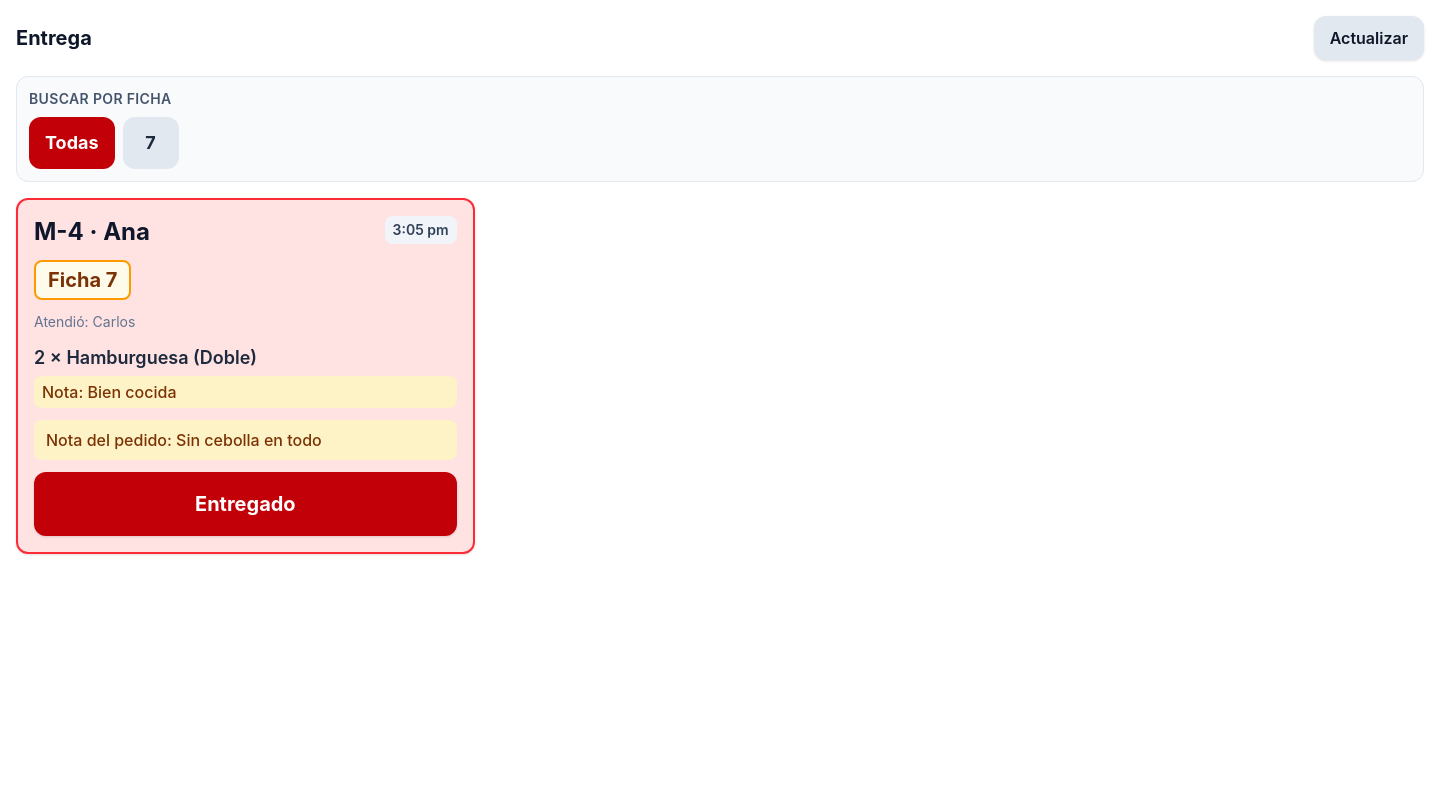
Test: DeliveryBoard › removes the card optimistically when delivered
Click the button with aria-label "Marcar pedido entregado" at (245, 504), box [34,472,457,536]
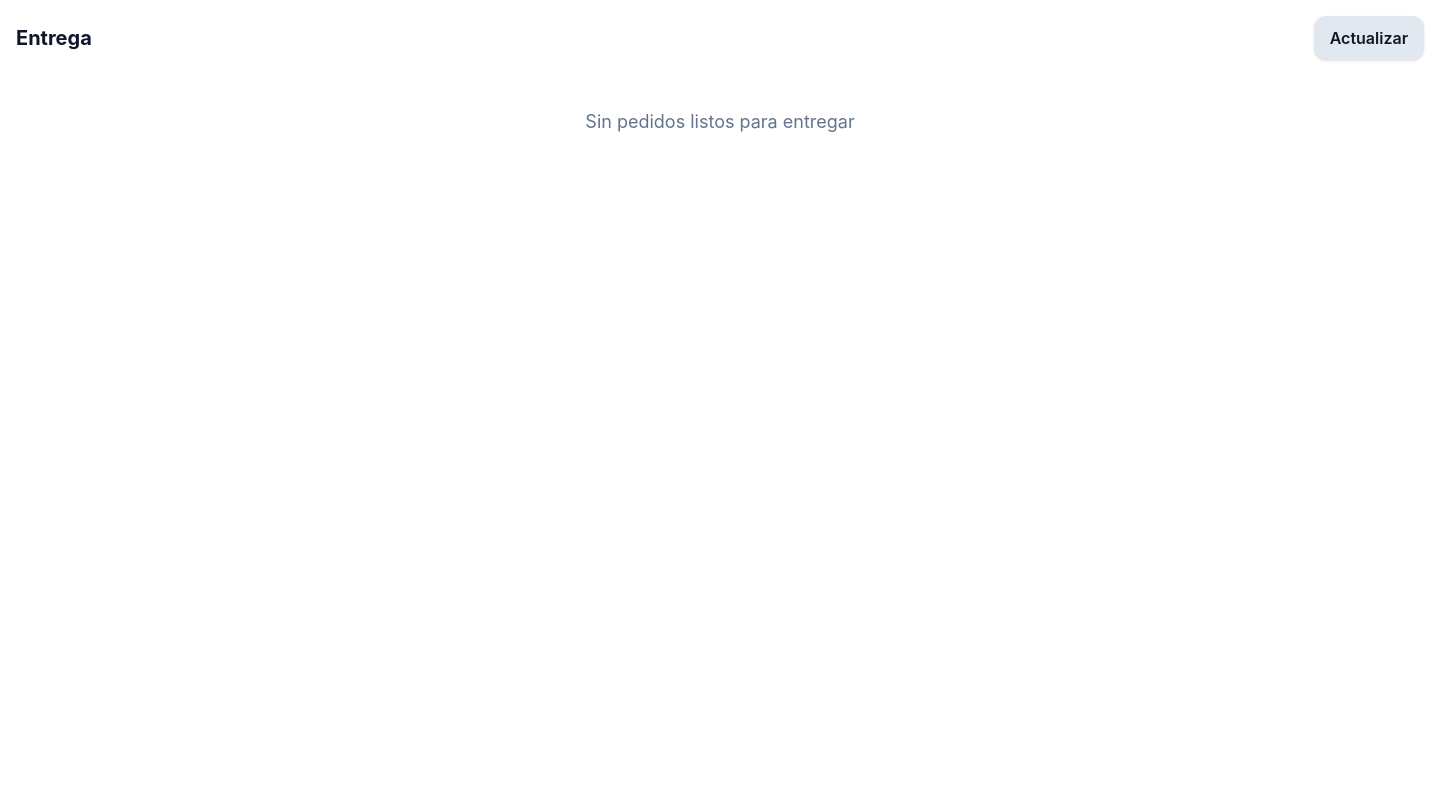
Check: the heading "M-4 · Ana" is gone
